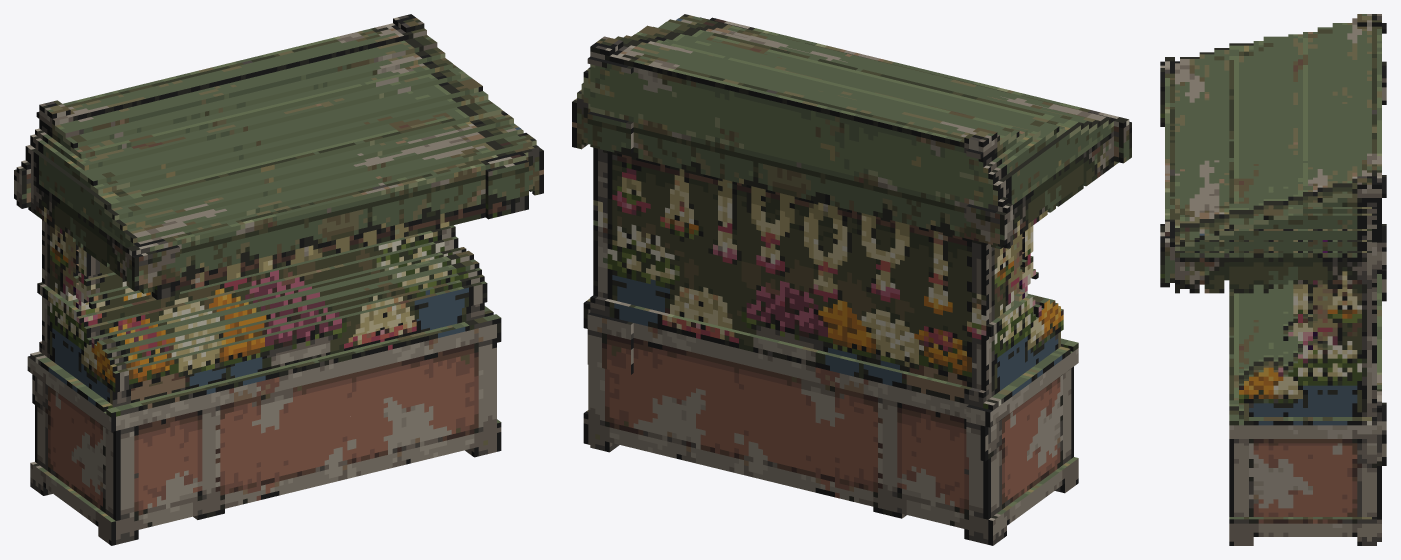
File: city_kiosk_flowers.glb
3 views of the same model, side by side, from view 1: azimuth 30°, elevation 25°; view 2: azimuth 150°, elevation 25°; view 3: azimuth 270°, elevation 25° (orthographic). The views are drawn at different scales.
Parts seen in each view (by area): view 1: city_kiosk_flowers; view 2: city_kiosk_flowers; view 3: city_kiosk_flowers.
Part boxes in pixels (x1=…): city_kiosk_flowers: x1=14, y1=14, x2=543, y2=545; city_kiosk_flowers: x1=572, y1=14, x2=1131, y2=545; city_kiosk_flowers: x1=1160, y1=14, x2=1386, y2=545.
Bounding box in the file's own units: 2.88 × 2.5 × 1.44.
